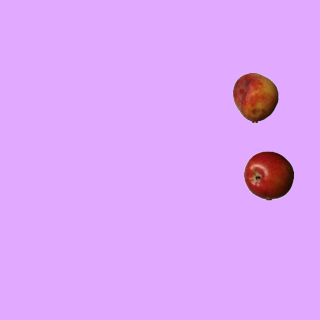Apple Braeburn: (243, 150, 293, 200)
Peach: (230, 72, 280, 122)
